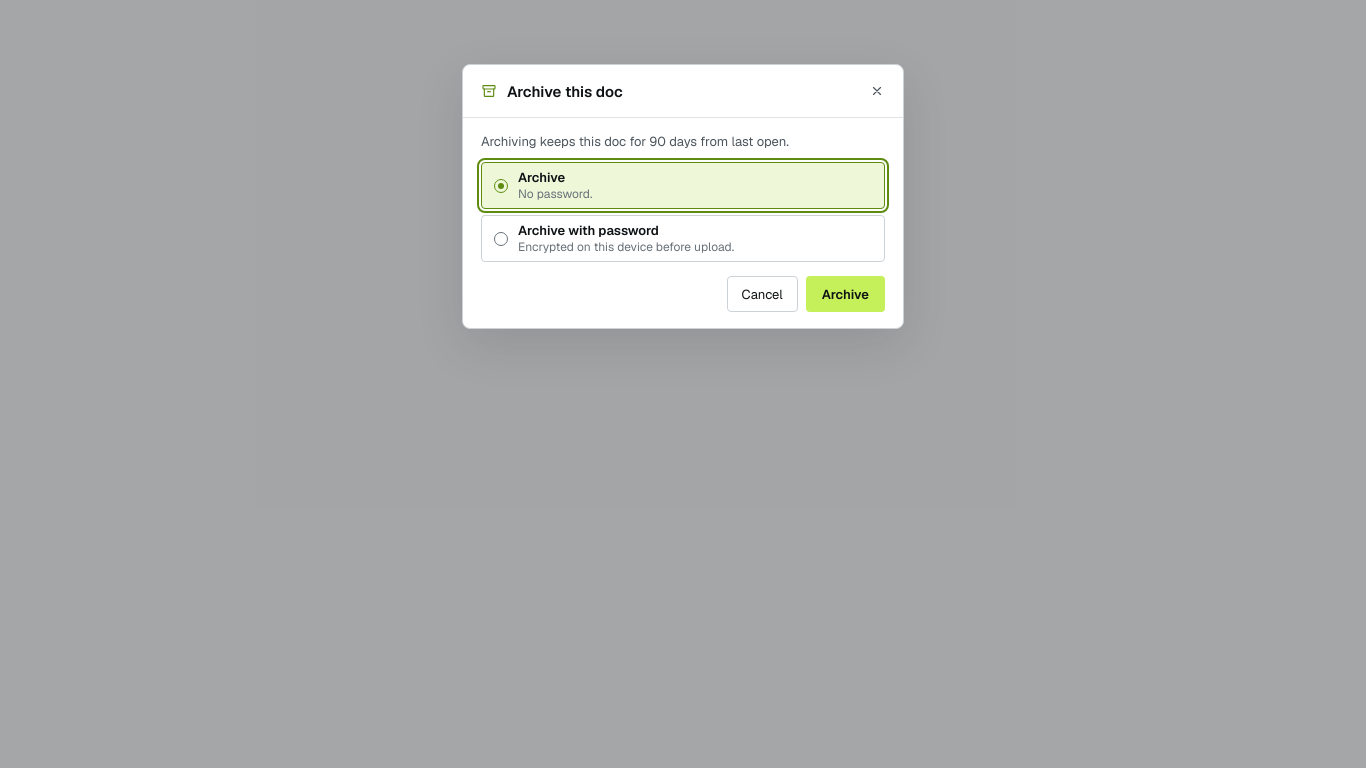
Test case: SaveModal › pre-checks projected ciphertext size and skips crypto entirely when too large
Click the radio button labelled "Archive with password": coordinates (683, 238) [481, 215, 885, 262]
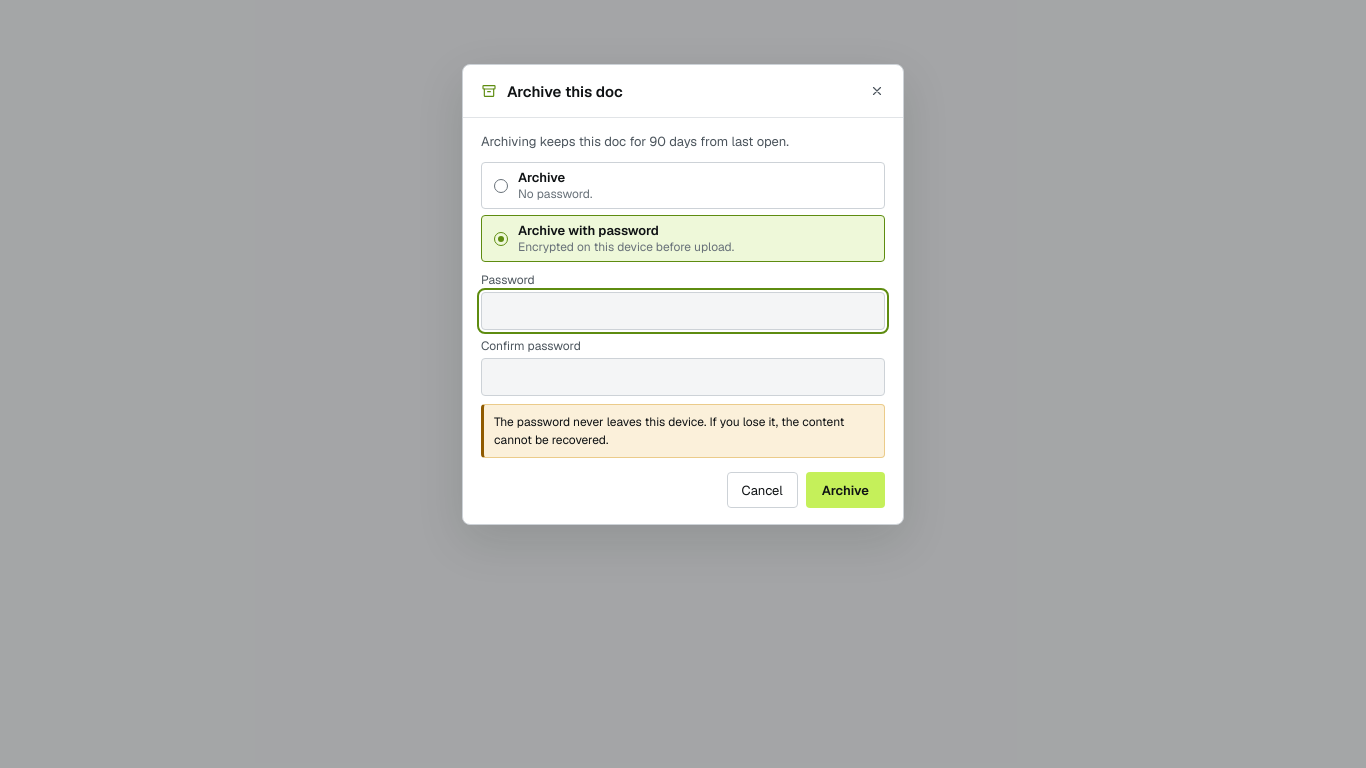
In the password field labelled "Password": coordinates (683, 311) [481, 292, 885, 330], type "password123"
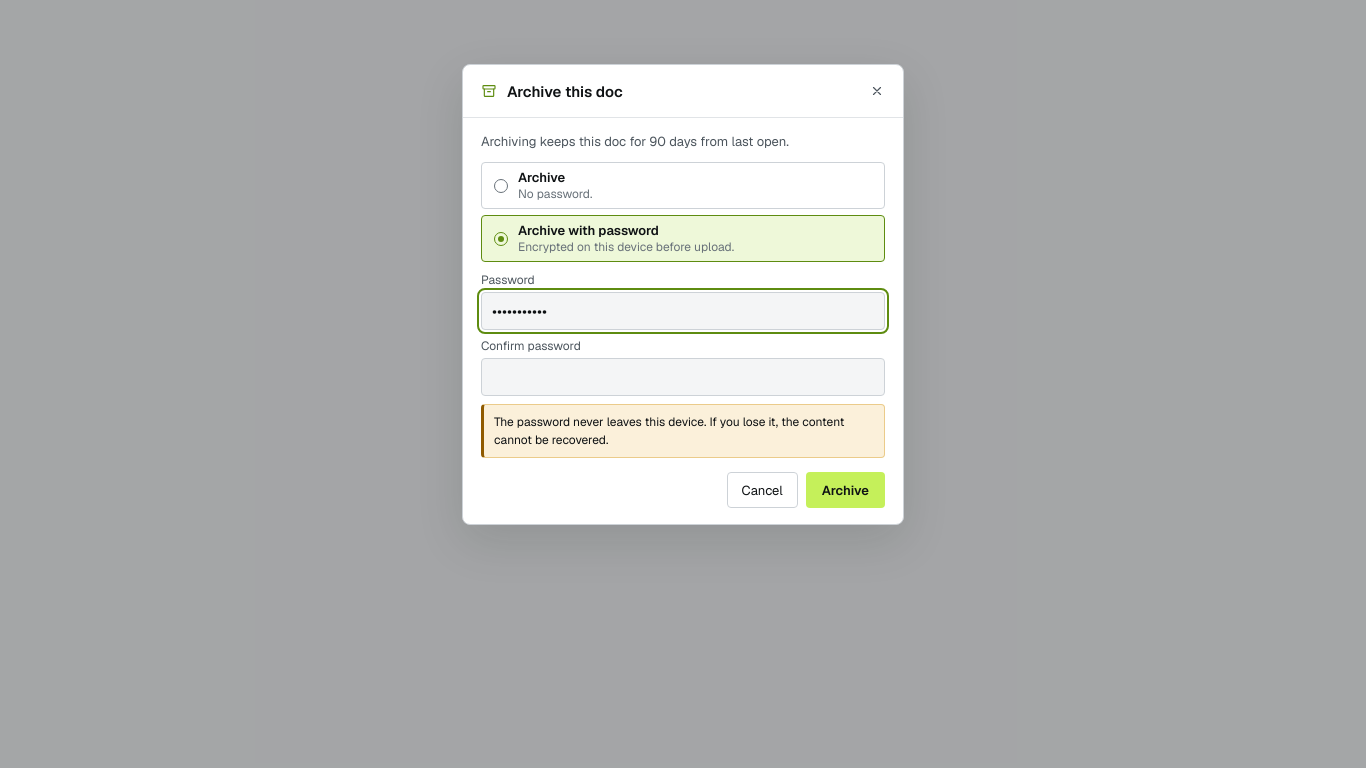
In the password field labelled "Confirm password": coordinates (683, 377) [481, 358, 885, 396], type "password123"
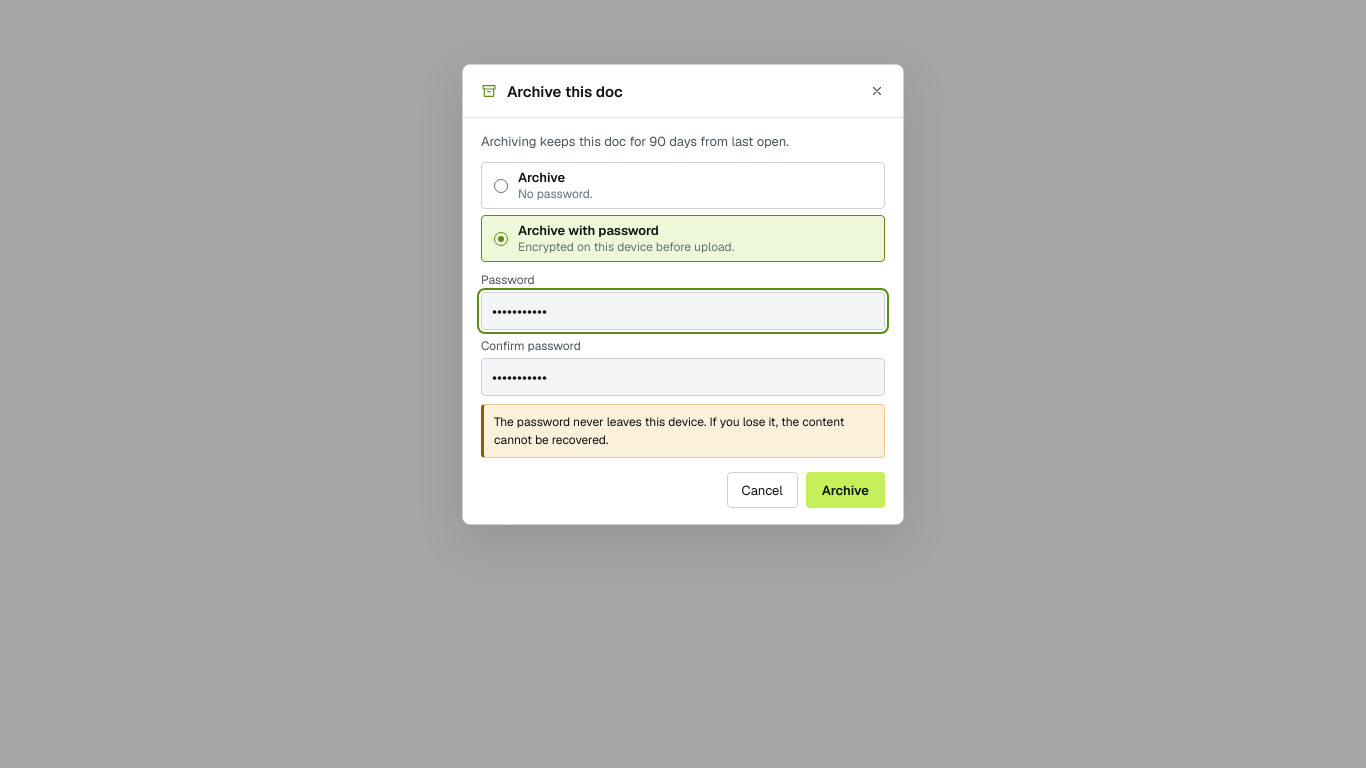
Click the button "Archive": coordinates (845, 490) [806, 472, 885, 508]
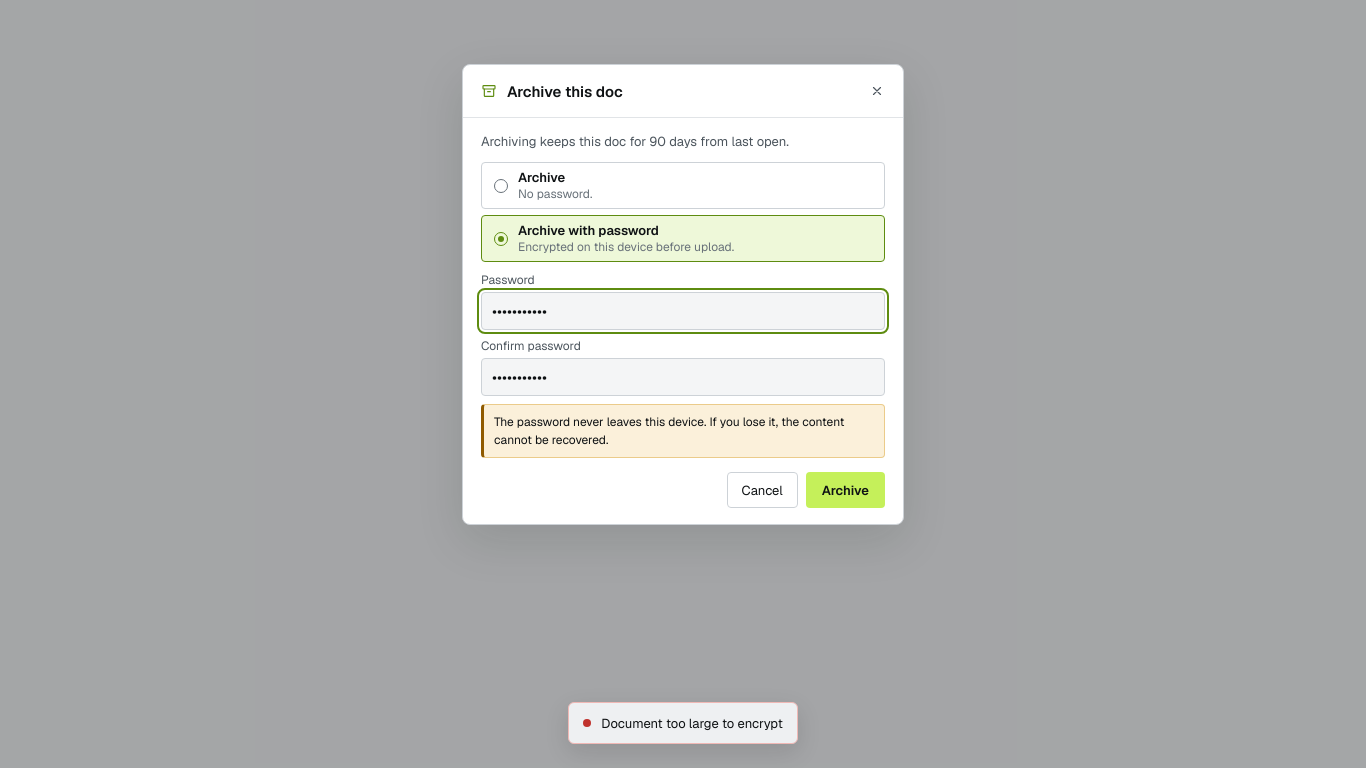
Result: the message reads "Document too large to encrypt" at [601, 714, 783, 732]
